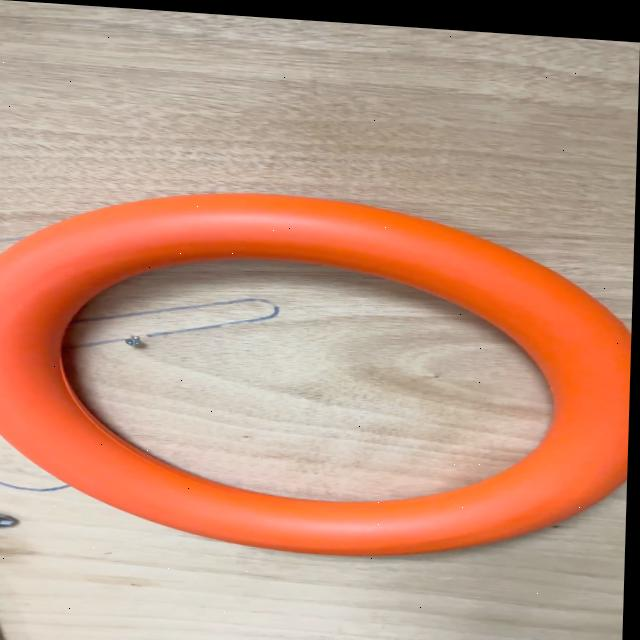note: (0, 174, 633, 567)
